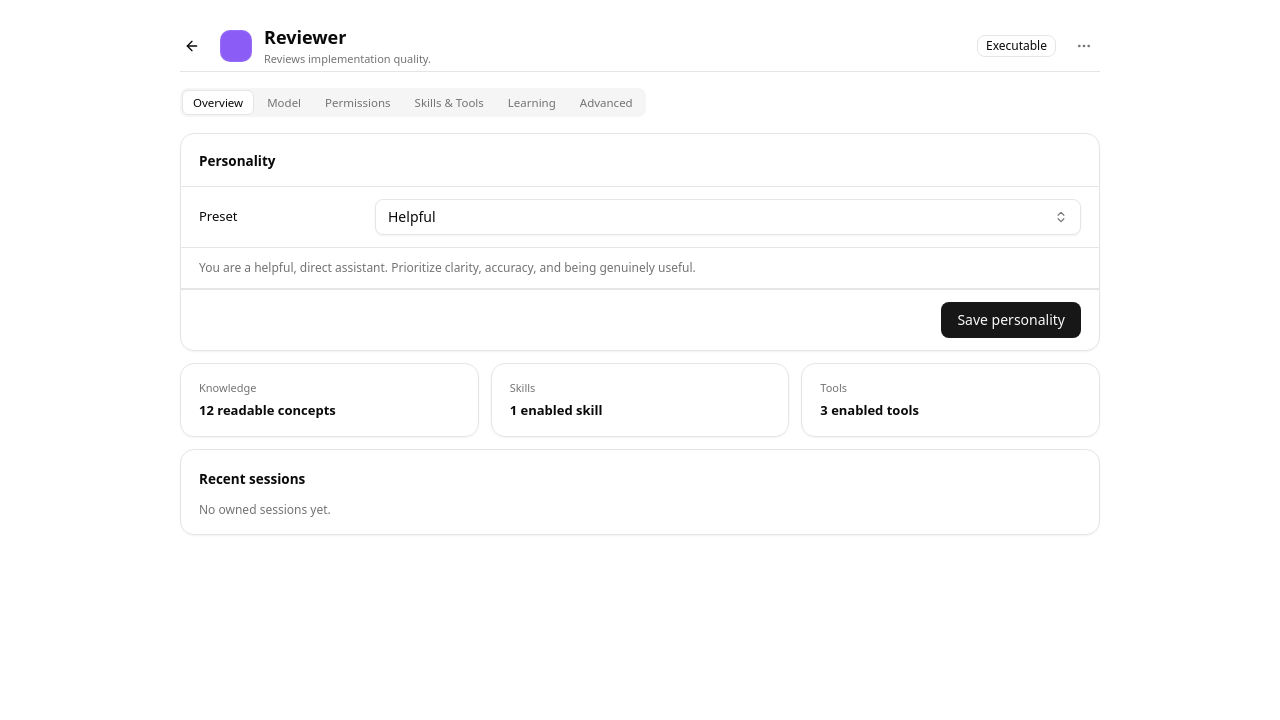
Test: Skills & Tools and Advanced tabs render their owned settings
The image size is (1280, 720).
What coordinates should you click on to do the following:
click the button "Skills & Tools"
I would click on:
 (449, 102)
Its box is [404,90,495,115].
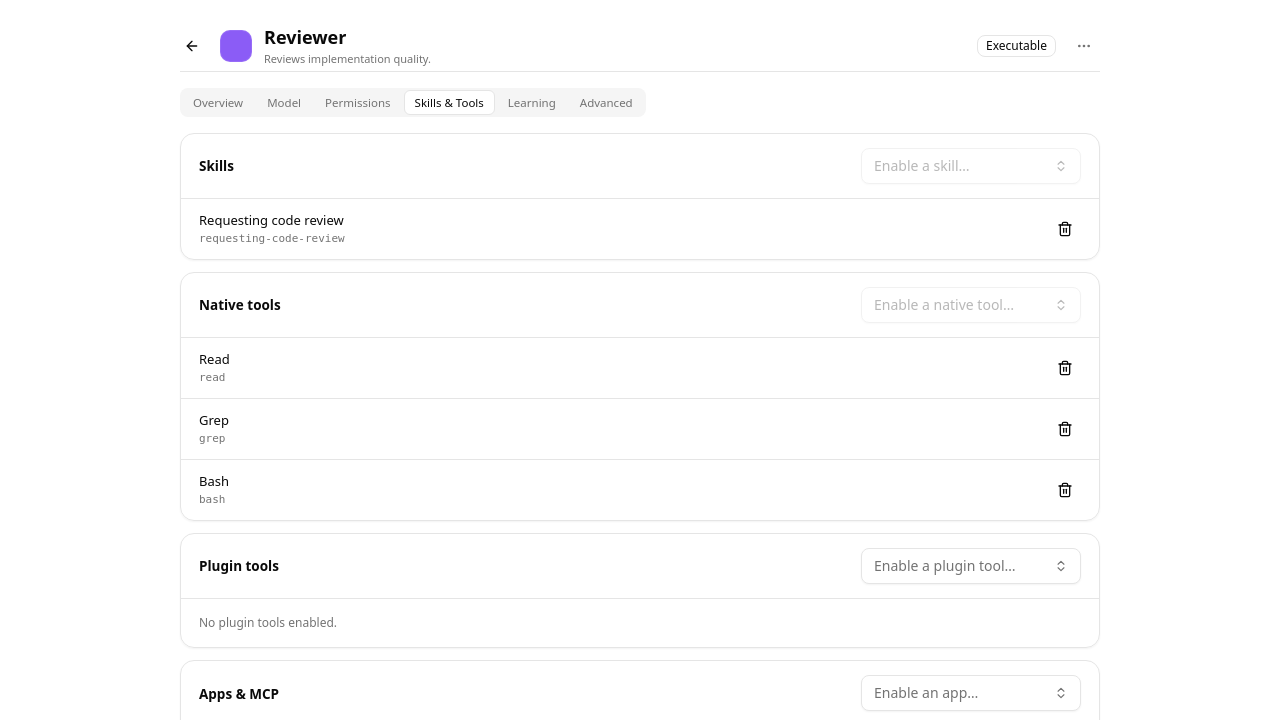
Expected: the dropdown named "Skill catalog" is shown, [861,148,1081,184]
What coordinates should you click on to do the following:
click the button "Advanced"
I would click on:
 (606, 102)
Its box is [569,90,644,115].
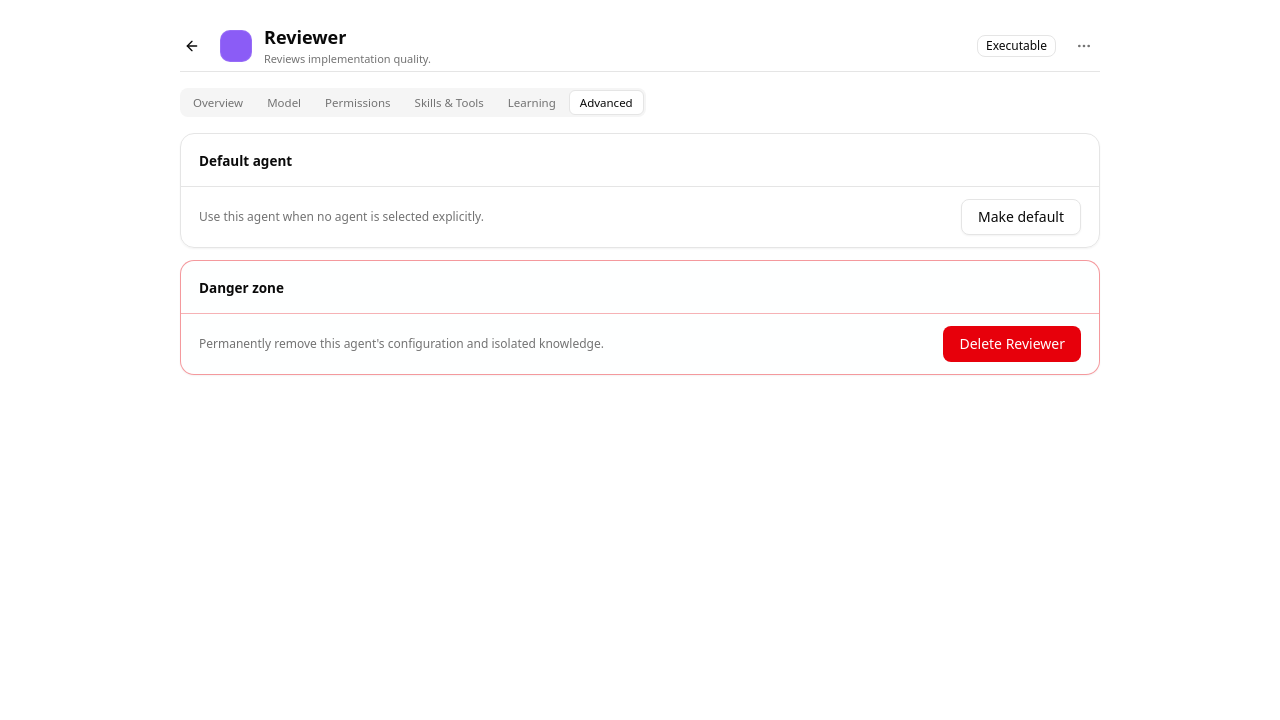
Expected: the button "Delete Reviewer" is shown, [943,326,1081,362]
